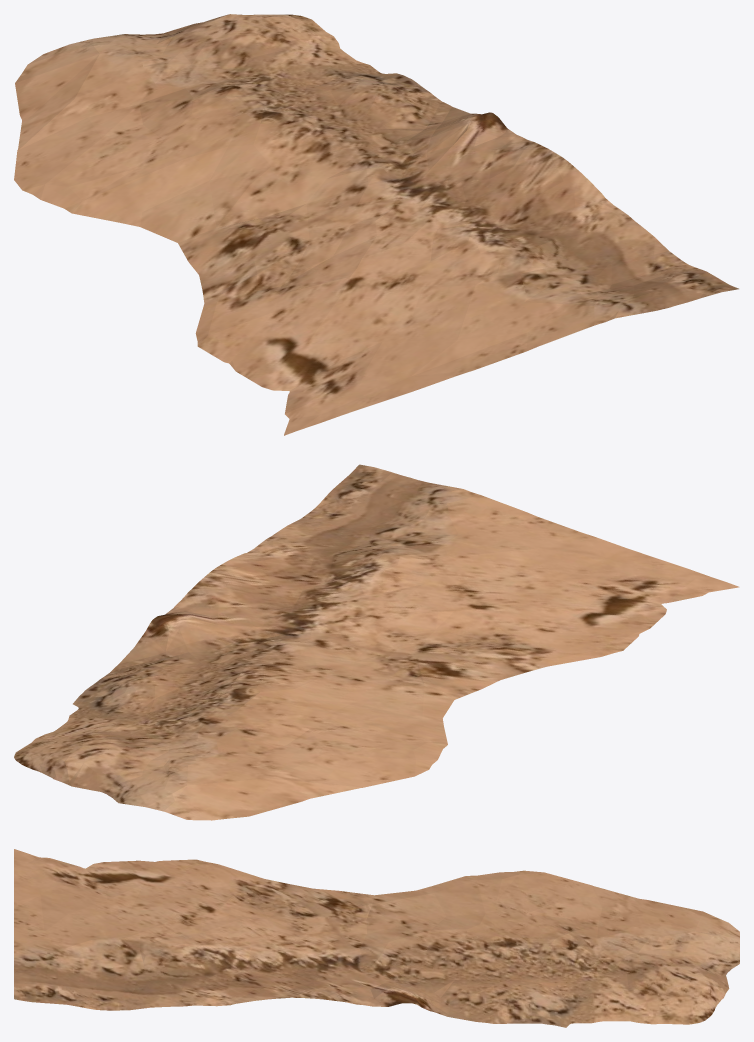
The picture shows the model from 3 angles, top to bottom: view 1: azimuth 30°, elevation 25°; view 2: azimuth 150°, elevation 25°; view 3: azimuth 270°, elevation 25°; orthographic projection. The views are drawn at different scales.
Bounding box in the file's own units: 1.22 × 0.0958 × 2.09.
1 material, 1 textured.
